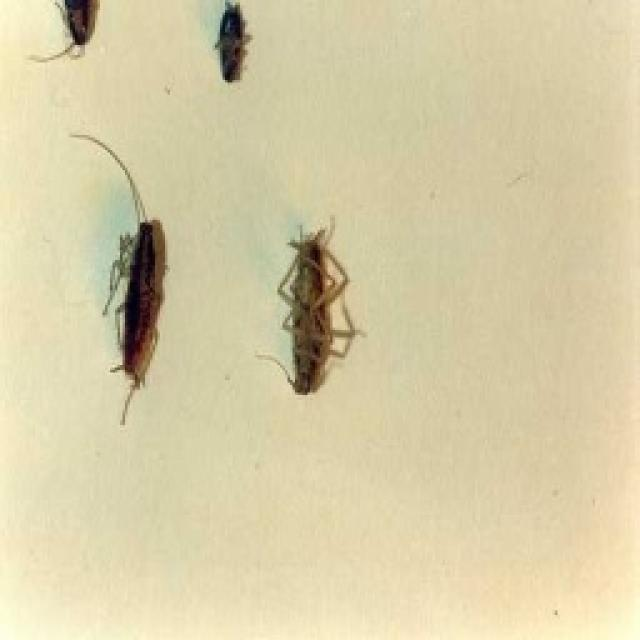cockroach: (93, 204, 187, 402), (286, 215, 348, 412), (206, 0, 264, 104), (44, 0, 106, 75)
